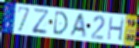2: (90, 14, 106, 41)
7: (17, 6, 31, 33)
A: (68, 13, 88, 38)
D: (52, 11, 69, 36)
H: (106, 16, 126, 42)
Z: (31, 7, 49, 34)
